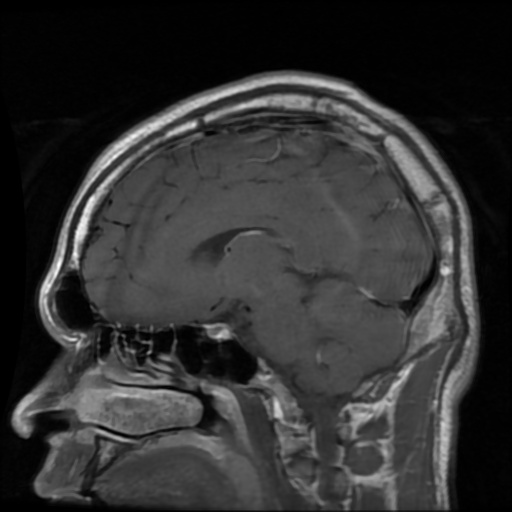pituitary: (206, 323, 230, 339)
